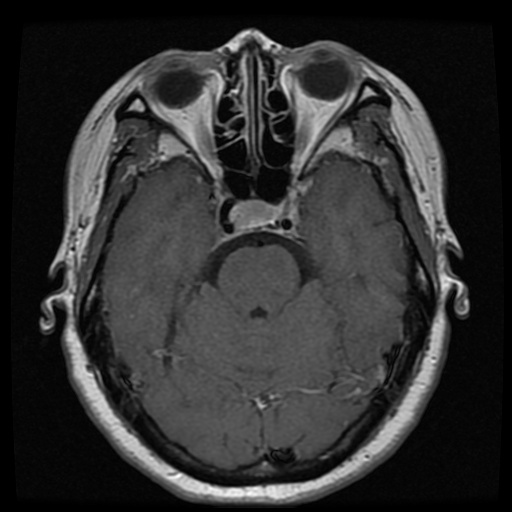pituitary: (230, 200, 285, 228)
